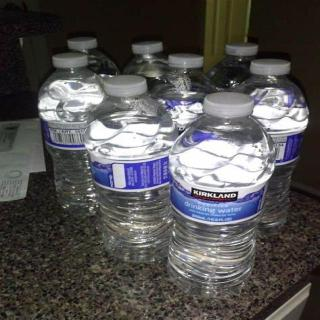Plastic-bottle: (165, 93, 269, 307), (86, 73, 178, 265), (37, 56, 137, 217), (228, 61, 310, 229)
